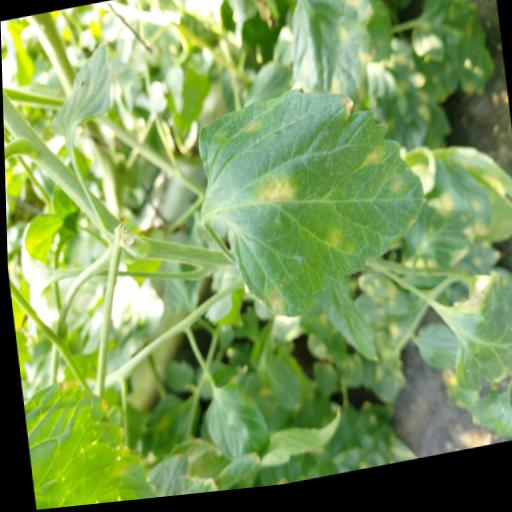Leaf Mold: (194, 74, 434, 337), (283, 0, 385, 131), (439, 274, 512, 406)
Leaf_Miner: (504, 322, 512, 353)
